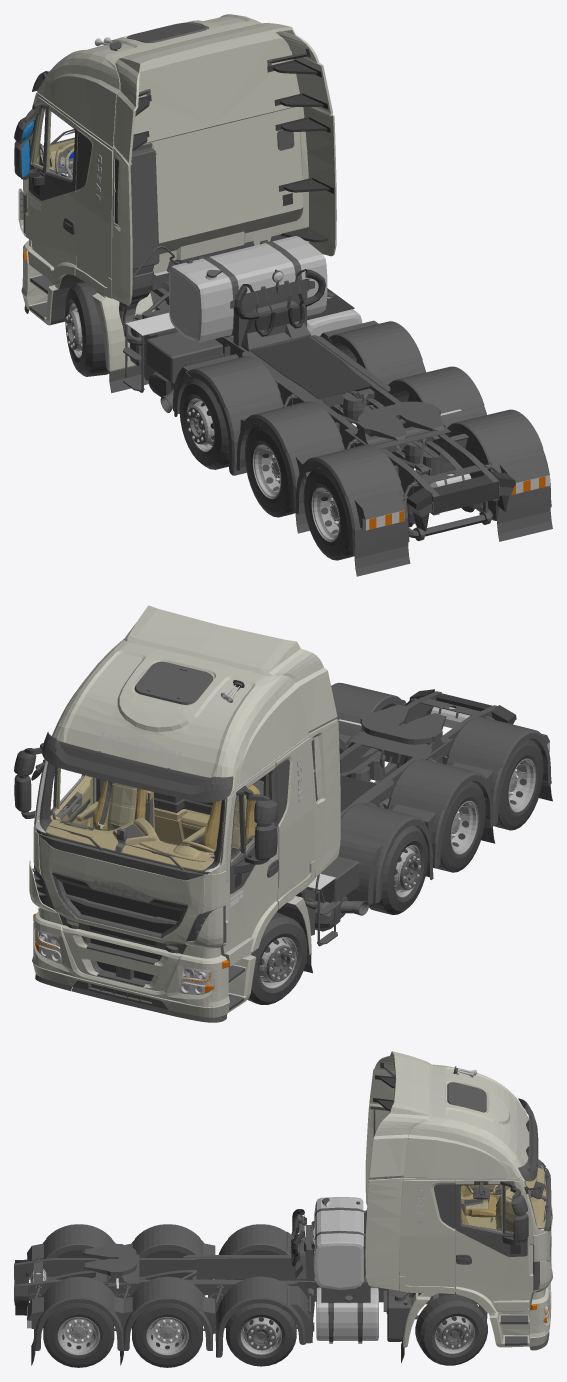
Rendered from 2008_iveco_stralis_560_8x4.glb.
The picture shows the model from 3 angles, top to bottom: view 1: azimuth 30°, elevation 25°; view 2: azimuth 150°, elevation 25°; view 3: azimuth 270°, elevation 25°; orthographic projection. The views are drawn at different scales.
Parts seen in each view (by area): view 1: Object_8, Object_7, Object_9, Object_6, Object_5; view 2: Object_8, Object_9, Object_7, Object_6, Object_5, Object_10; view 3: Object_8, Object_7, Object_9, Object_6, Object_5, Object_10.
Boxes of the visible parts, bbox=[...] form: Object_8: bbox=[18, 14, 549, 533]; Object_7: bbox=[23, 145, 552, 576]; Object_9: bbox=[14, 71, 545, 529]; Object_6: bbox=[38, 23, 336, 305]; Object_5: bbox=[65, 159, 371, 560]; Object_8: bbox=[14, 638, 549, 1022]; Object_9: bbox=[31, 709, 381, 1017]; Object_7: bbox=[33, 682, 552, 994]; Object_6: bbox=[39, 605, 390, 877]; Object_5: bbox=[184, 739, 543, 1004]; Object_10: bbox=[46, 790, 253, 871]; Object_8: bbox=[14, 1064, 552, 1365]; Object_7: bbox=[14, 1185, 549, 1365]; Object_9: bbox=[43, 1098, 551, 1367]; Object_6: bbox=[209, 1051, 548, 1304]; Object_5: bbox=[56, 1185, 501, 1366]; Object_10: bbox=[461, 1167, 546, 1232].
Bounding box in the file's own units: 3.05 × 3.85 × 7.4.
